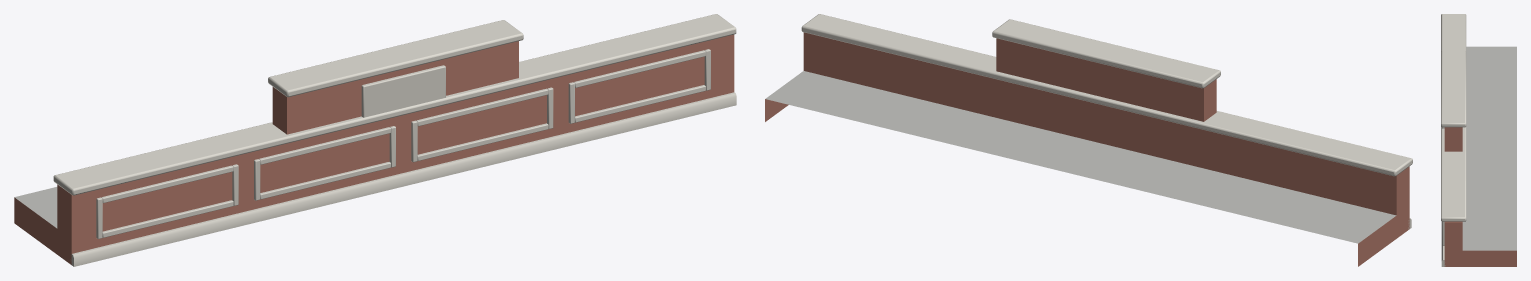
The model's file is cap_parapet_8.glb.
3 views of the same model, side by side, from view 1: azimuth 30°, elevation 25°; view 2: azimuth 150°, elevation 25°; view 3: azimuth 270°, elevation 25° (orthographic). The views are drawn at different scales.
Parts seen in each view (by area): view 1: cap_parapet_8; view 2: cap_parapet_8; view 3: cap_parapet_8.
Boxes of the visible parts, <box> form: cap_parapet_8: <box>14,14,736,266</box>; cap_parapet_8: <box>765,14,1412,266</box>; cap_parapet_8: <box>1441,14,1516,266</box>.
Size of the model in its own units: 8.02 by 1.43 by 1.26.
